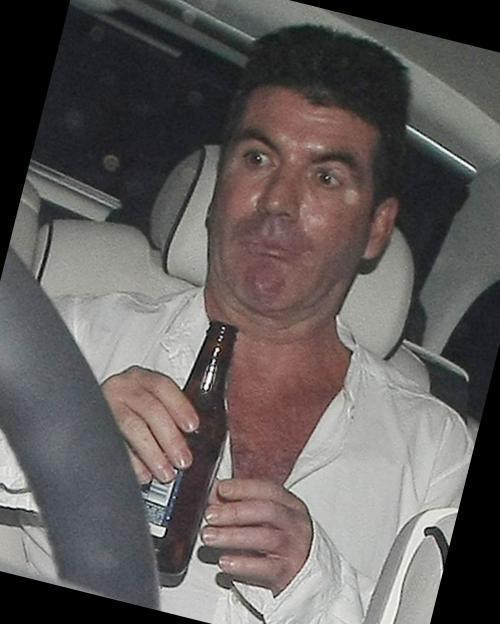Drunk: (228, 87, 372, 315)
